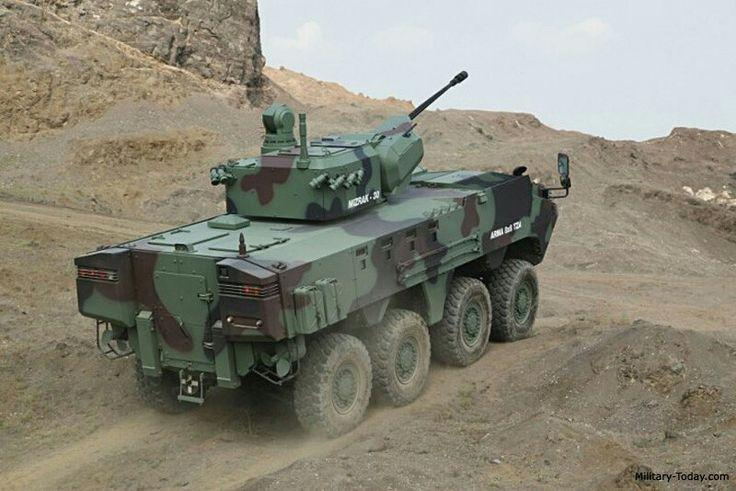armored_car: (68, 65, 565, 438)
